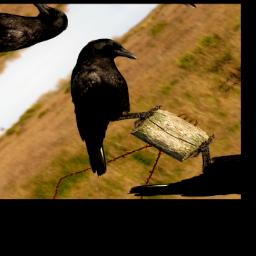Crow: (0, 32, 203, 179)
